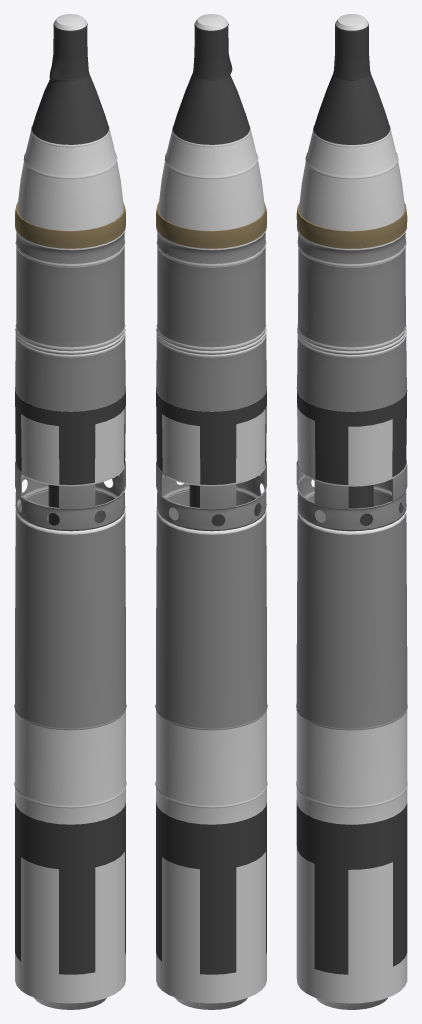
File: sfd.fbx
The picture shows the model from 3 angles, left to right: view 1: azimuth 30°, elevation 25°; view 2: azimuth 210°, elevation 25°; view 3: azimuth 270°, elevation 25°; orthographic projection.
Visible parts, largest first — view 1: STAGE_3, STAGE_2, CAPSULE, pCylinder1; view 2: STAGE_3, STAGE_2, CAPSULE, pCylinder1; view 3: STAGE_3, STAGE_2, CAPSULE, pCylinder1.
Boxes of the visible parts, box(x1,y1,x2,y2) form: STAGE_3: box(14, 388, 126, 1009); STAGE_2: box(15, 202, 125, 411); CAPSULE: box(17, 14, 123, 230); pCylinder1: box(48, 484, 59, 525); STAGE_3: box(155, 388, 267, 1009); STAGE_2: box(156, 202, 266, 411); CAPSULE: box(158, 14, 264, 230); pCylinder1: box(189, 484, 225, 526); STAGE_3: box(296, 387, 407, 1009); STAGE_2: box(296, 203, 407, 411); CAPSULE: box(299, 14, 404, 231); pCylinder1: box(348, 485, 373, 525).
Bounding box in the file's own units: 0.5908 × 5.68 × 0.5899.
